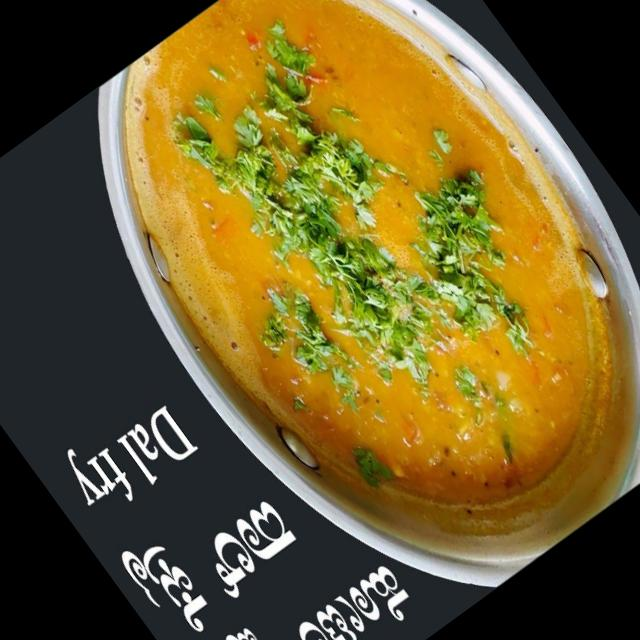dal: (39, 0, 640, 614)
